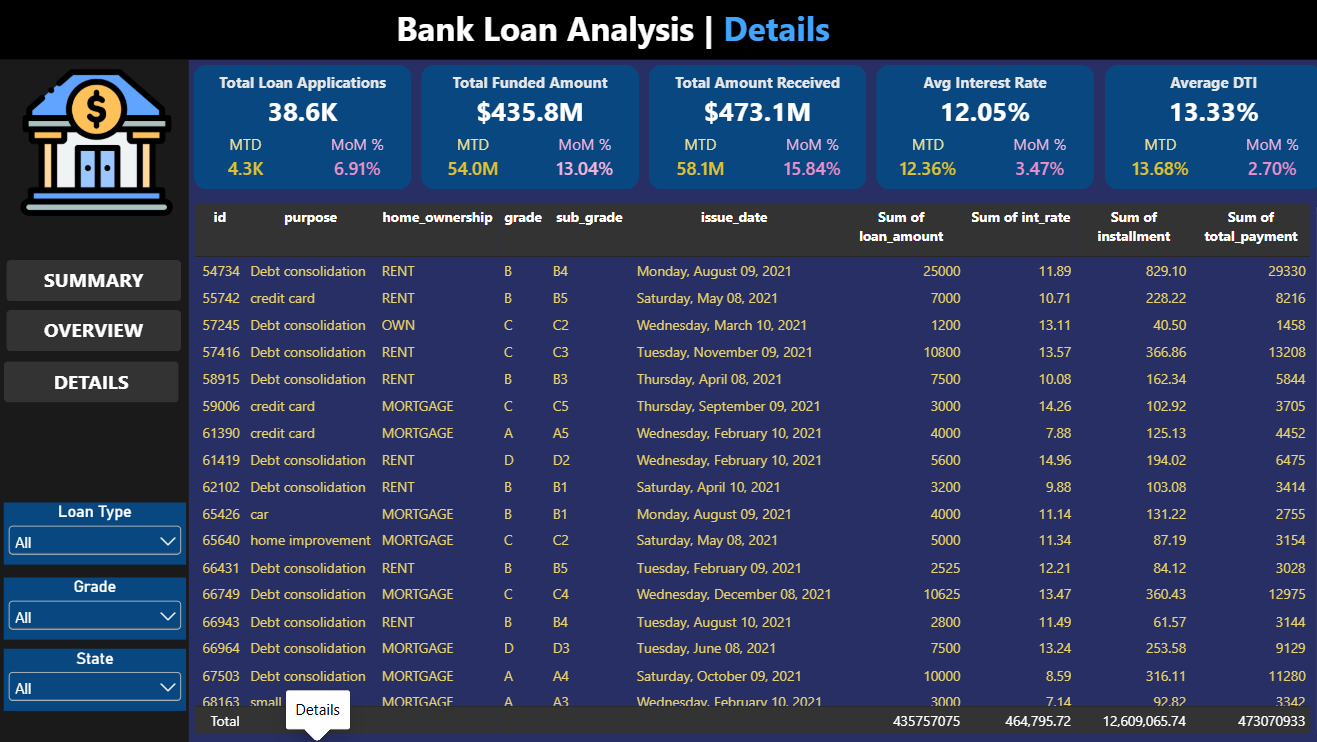

Layout of this report page (visuals, bound fields, positions):
{"tool":"powerbi","page":{"name":"Details","canvas":[1280,720],"ordinal":2},"visuals":[{"type":"shape","box":[0,0,1280.3,57.6],"z":0},{"type":"textbox","box":[382.4,4.8,639.4,48.3],"z":1000},{"type":"shape","box":[0,57.9,182.2,662.3],"z":2000},{"type":"cardVisual","title":"Total Loan Applications","fields":{"Data":["Date Table.Total Loan Application"]},"box":[187,63,210,120],"z":3000},{"type":"cardVisual","title":"Total Loan Applications","fields":{"Data":["Date Table.Total Funded Amount"]},"box":[407,63,210,120],"z":4000},{"type":"cardVisual","title":"Total Loan Applications","fields":{"Data":["Date Table.Average DTI"]},"box":[1067,63,210,120],"z":5000},{"type":"cardVisual","title":"Total Loan Applications","fields":{"Data":["Date Table.Avg Interest Rate"]},"box":[846,63,210,120],"z":6000},{"type":"cardVisual","title":"Total Loan Applications","fields":{"Data":["Date Table.Total Amount Received"]},"box":[626,63,210,120],"z":7000},{"type":"cardVisual","fields":{"Data":["Date Table.MTD Loan Applications","Date Table.Applications MoM %"]},"box":[187,123.1,209.9,57.9],"z":8000},{"type":"cardVisual","fields":{"Data":["Date Table.MTD Funded Amount","Date Table.Funded Amount MoM %"]},"box":[406.6,123.1,209.9,57.9],"z":9000},{"type":"cardVisual","fields":{"Data":["Date Table.MTD Amount Received","Date Table.Amount Received MoM %"]},"box":[626.1,123.1,209.9,57.9],"z":10000},{"type":"cardVisual","fields":{"Data":["Date Table.MTD Average Interest Rate","Date Table.Interest Rate MoM %"]},"box":[845.7,123.1,209.9,57.9],"z":11000},{"type":"cardVisual","fields":{"Data":["Date Table.MTD Average DTI","Date Table.DTI MoM %"]},"box":[1070.1,123.1,209.9,57.9],"z":12000},{"type":"actionButton","title":"SUMMARY","box":[6.3,250.7,168.9,39.8],"z":29000},{"type":"slicer","title":"Loan Type","fields":{"Values":["Good Bad Filter.Loan Type"]},"box":[3.6,484.5,176.1,60.3],"z":30000},{"type":"slicer","title":"Grade","fields":{"Values":["public financial_loan.grade"]},"box":[3.6,557.4,176.1,60.3],"z":31000},{"type":"slicer","title":"State","fields":{"Values":["public financial_loan.address_state"]},"box":[3.6,626.1,176.1,60],"z":32000},{"type":"image","box":[10.9,63.9,164.1,147.2],"z":33000},{"type":"actionButton","title":"SUMMARY","box":[6,299.2,168.9,39.8],"z":34000},{"type":"actionButton","title":"SUMMARY","box":[3.6,348.7,168.9,39.8],"z":35000},{"type":"tableEx","title":"Loan Status","fields":{"Values":["public financial_loan.id","public financial_loan.purpose","public financial_loan.home_ownership","public financial_loan.grade","public financial_loan.sub_grade","public financial_loan.issue_date","Sum(public financial_loan.loan_amount)","Sum(public financial_loan.int_rate)","Sum(public financial_loan.installment)","Sum(public financial_loan.total_payment)"]},"box":[187,188.2,1093,532],"z":35001}]}

Visuals, with their boxes in screenshot pixels (x1, y1, x2, y2), scaled from the page's 1280x720 canvas onto the 1317x742 screenshot:
shape: 0/0/1316/59
textbox: 393/5/1051/55
shape: 0/60/187/741
"Total Loan Applications" cardVisual: 192/65/408/189
"Total Loan Applications" cardVisual: 419/65/635/189
"Total Loan Applications" cardVisual: 1098/65/1314/189
"Total Loan Applications" cardVisual: 870/65/1087/189
"Total Loan Applications" cardVisual: 644/65/860/189
cardVisual - Date Table.MTD Loan Applications x Date Table.Applications MoM %: 192/127/408/187
cardVisual - Date Table.MTD Funded Amount x Date Table.Funded Amount MoM %: 418/127/634/187
cardVisual - Date Table.MTD Amount Received x Date Table.Amount Received MoM %: 644/127/860/187
cardVisual - Date Table.MTD Average Interest Rate x Date Table.Interest Rate MoM %: 870/127/1086/187
cardVisual - Date Table.MTD Average DTI x Date Table.DTI MoM %: 1101/127/1316/187
"SUMMARY" actionButton: 6/258/180/299
"Loan Type" slicer: 4/499/185/561
"Grade" slicer: 4/574/185/637
"State" slicer: 4/645/185/707
image: 11/66/180/218
"SUMMARY" actionButton: 6/308/180/349
"SUMMARY" actionButton: 4/359/177/400
"Loan Status" tableEx: 192/194/1316/741
